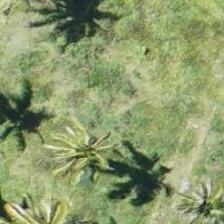coconut_tree: (45, 114, 135, 204), (166, 166, 223, 223)
